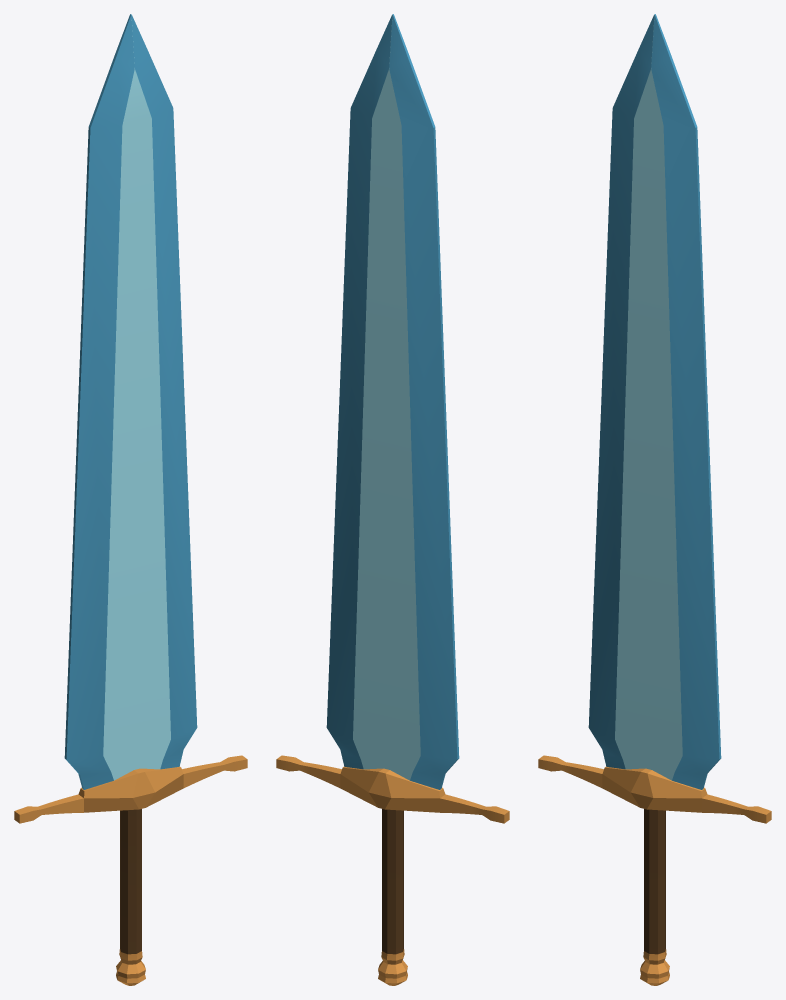
Rendered from two_handed_sword_4.fbx.
3 renders of one model, left to right at view 1: azimuth 30°, elevation 25°; view 2: azimuth 150°, elevation 25°; view 3: azimuth 330°, elevation 25°, orthographic.
Visible parts, largest first — view 1: two_handed_sword_4; view 2: two_handed_sword_4; view 3: two_handed_sword_4.
Part boxes in pixels (bbox=[...]): two_handed_sword_4: bbox=[14, 14, 247, 985]; two_handed_sword_4: bbox=[276, 14, 509, 985]; two_handed_sword_4: bbox=[538, 14, 771, 985].
Bounding box in the file's own units: 0.4593 × 1.87 × 0.0906.
Materials: 1 (1 with a texture image).
